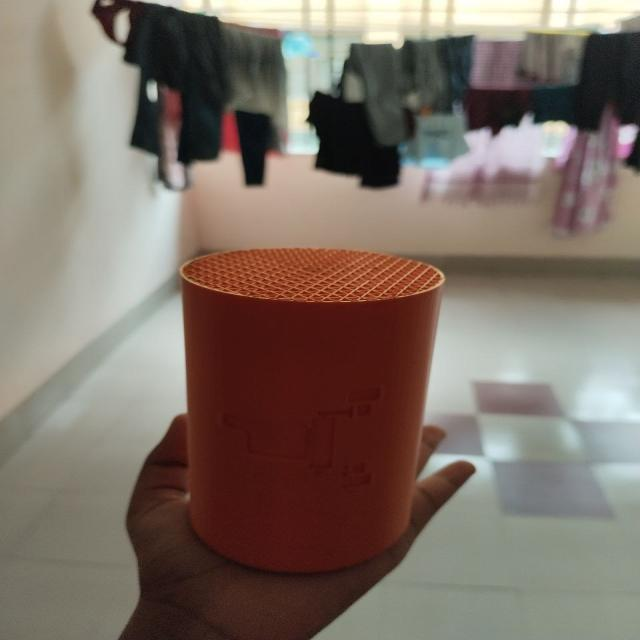Cylinder: (178, 246, 446, 574)
